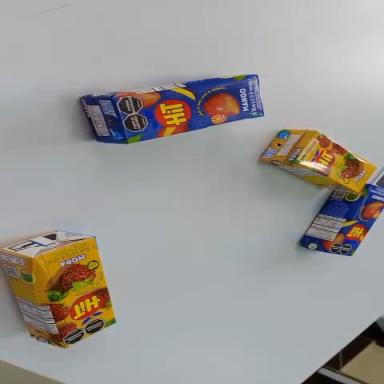HIT-MANGO: (79, 72, 264, 149), (297, 165, 384, 272)
HIT-MORA: (0, 220, 122, 358), (259, 114, 377, 212)
cara_F: (113, 69, 265, 145), (32, 237, 120, 350), (295, 129, 379, 200), (324, 182, 384, 267)
